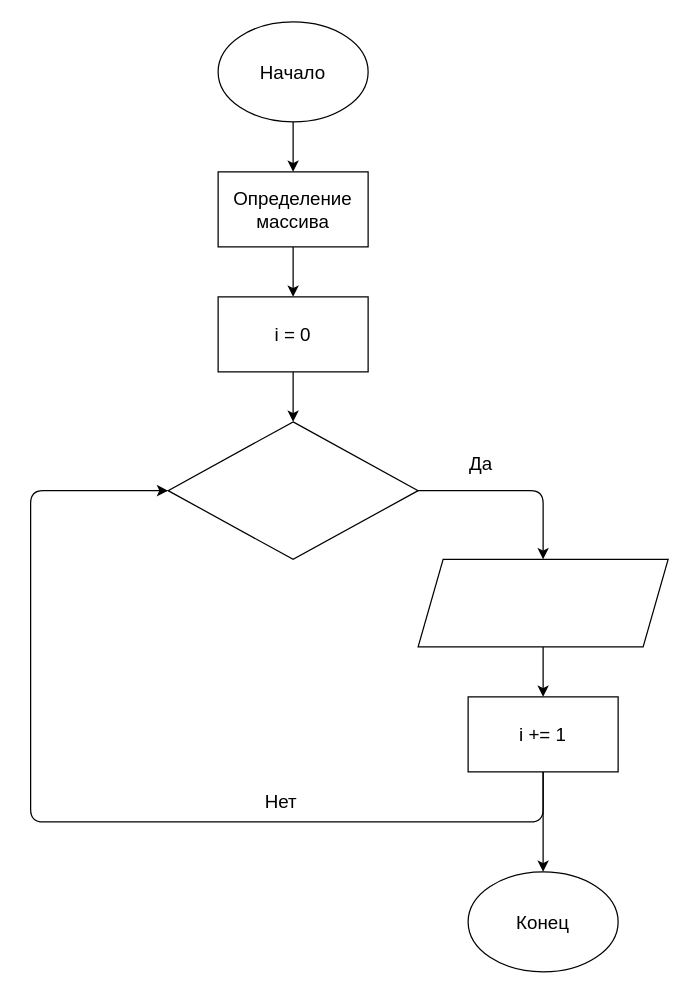
Some shapes in this 690 by 994 pixel diagram are drawn without their labels. Here are the shapes that lost their labels. From the top down, the centre of each, then its label:
At point 292,490: "i < длина массива?".
At point 542,602: "Вывод: элемент массива с индексом i".
